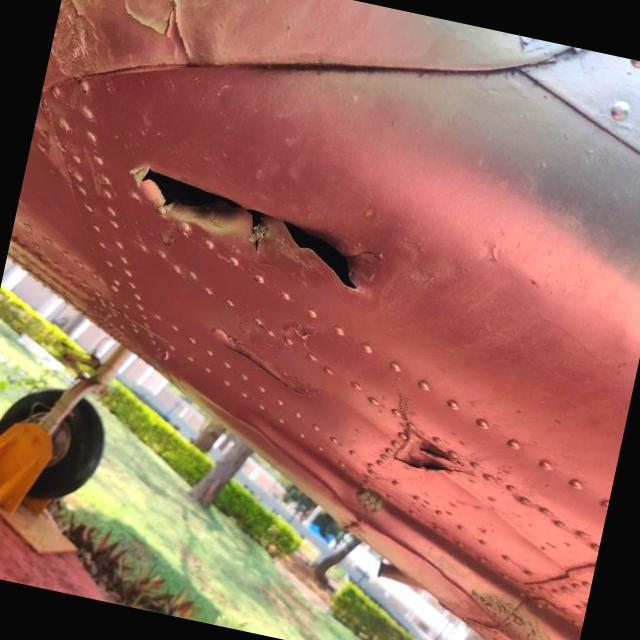crack: (105, 133, 402, 303)
paint-off: (384, 420, 467, 490)
